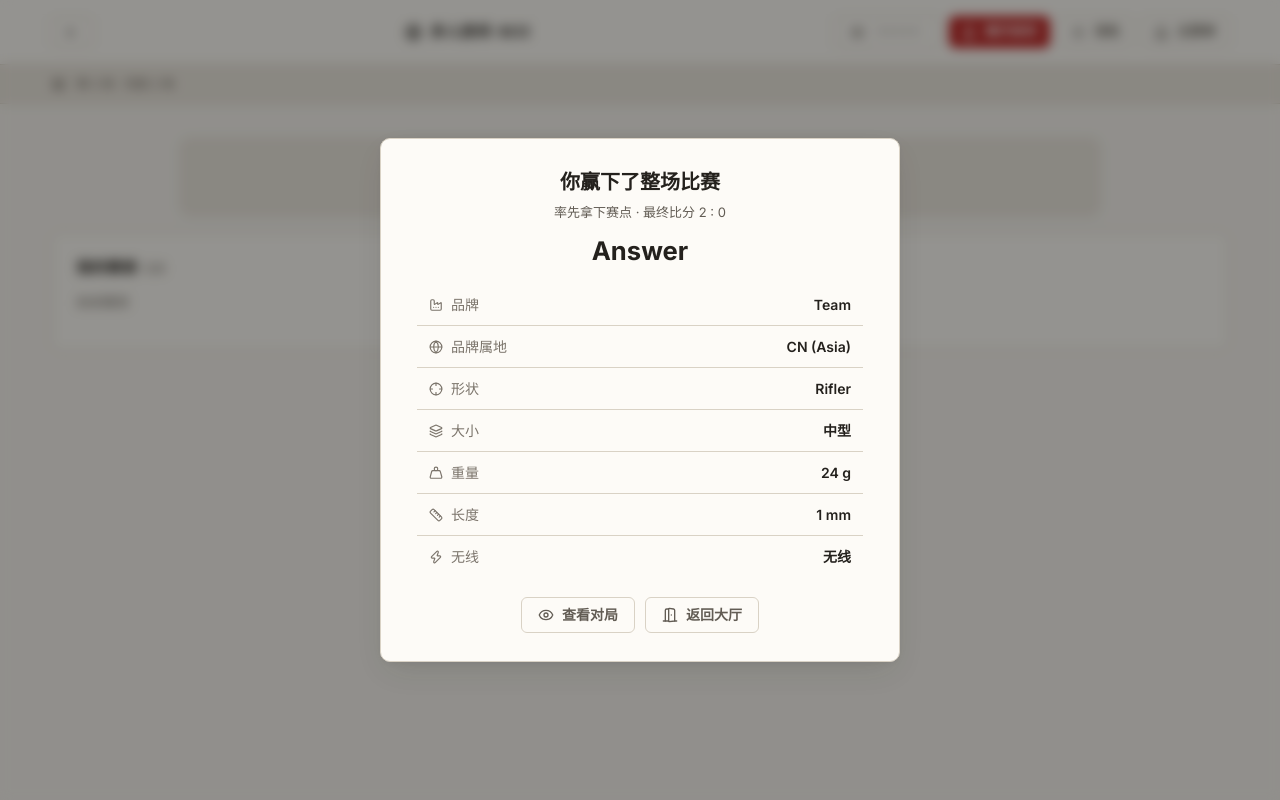
Test: MultiRoom replay › shows completed match rounds in the existing boards instead of a replay modal
The width and height of the screenshot is (1280, 800).
Click the button "查看对局". click: (578, 615)
box: [521, 597, 635, 633]
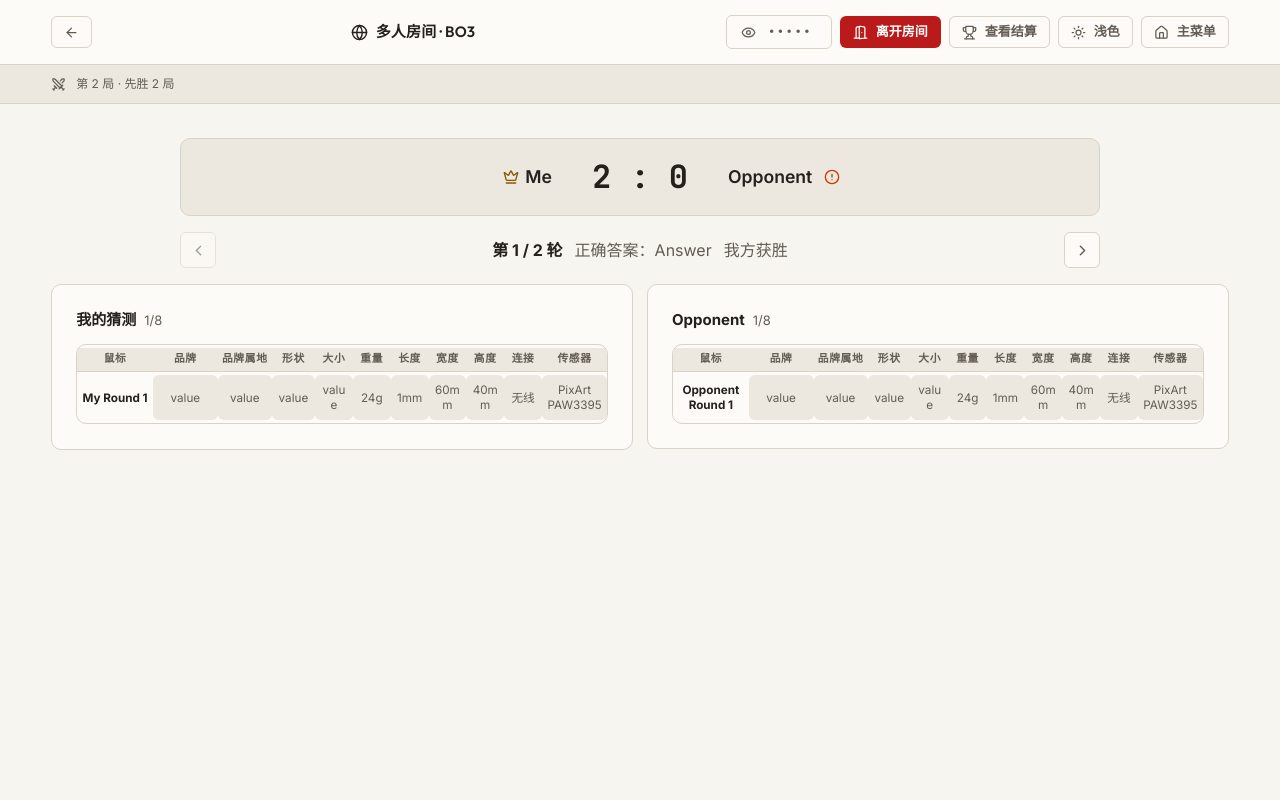
Check: the text "第 1 / 2 轮" is shown, box [492, 238, 563, 262]
Check: the text "Opponent Round 1" is shown, box [673, 375, 749, 420]
Click the button named "下一轮". click: (1082, 250)
box: [1064, 232, 1100, 268]
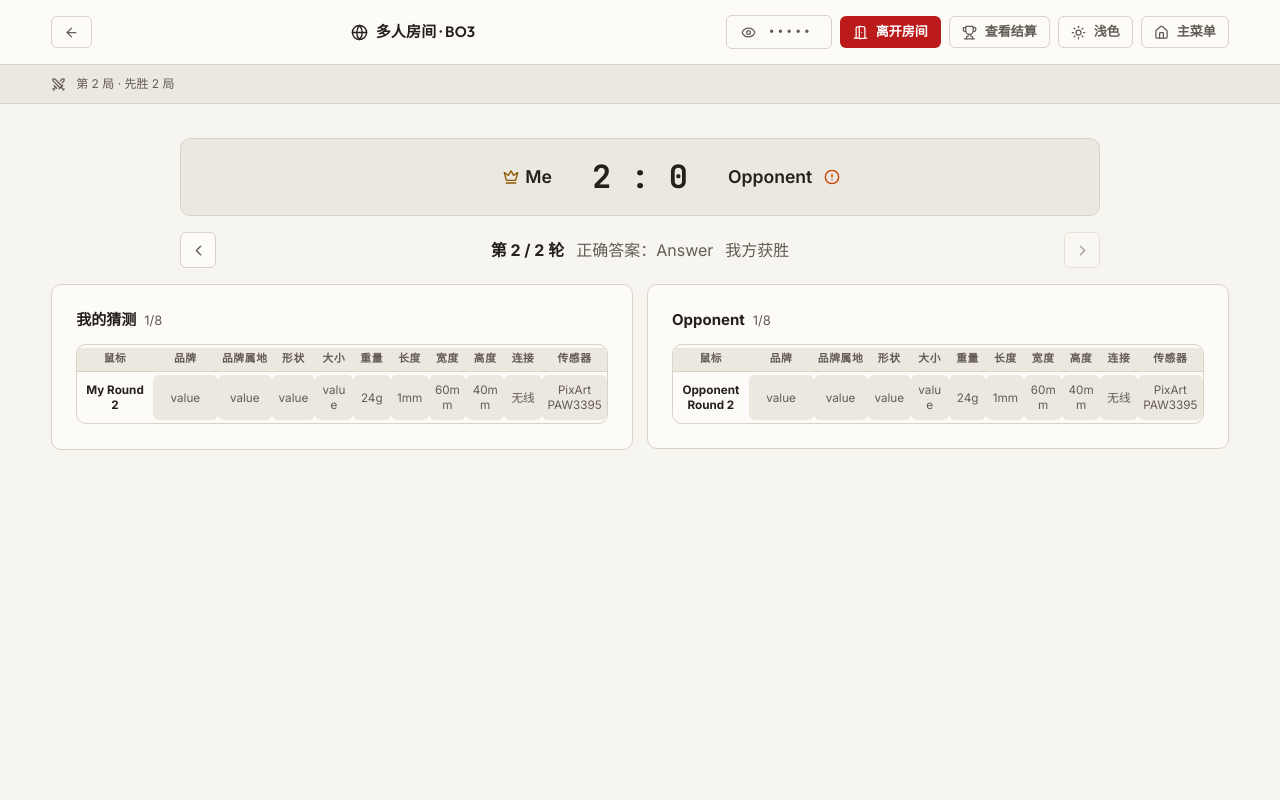
Check: the text "第 2 / 2 轮" is shown, box [491, 238, 564, 262]
Check: the text "Opponent Round 2" is shown, box [673, 375, 749, 420]
Check: the text "Opponent Round 1" is gone
